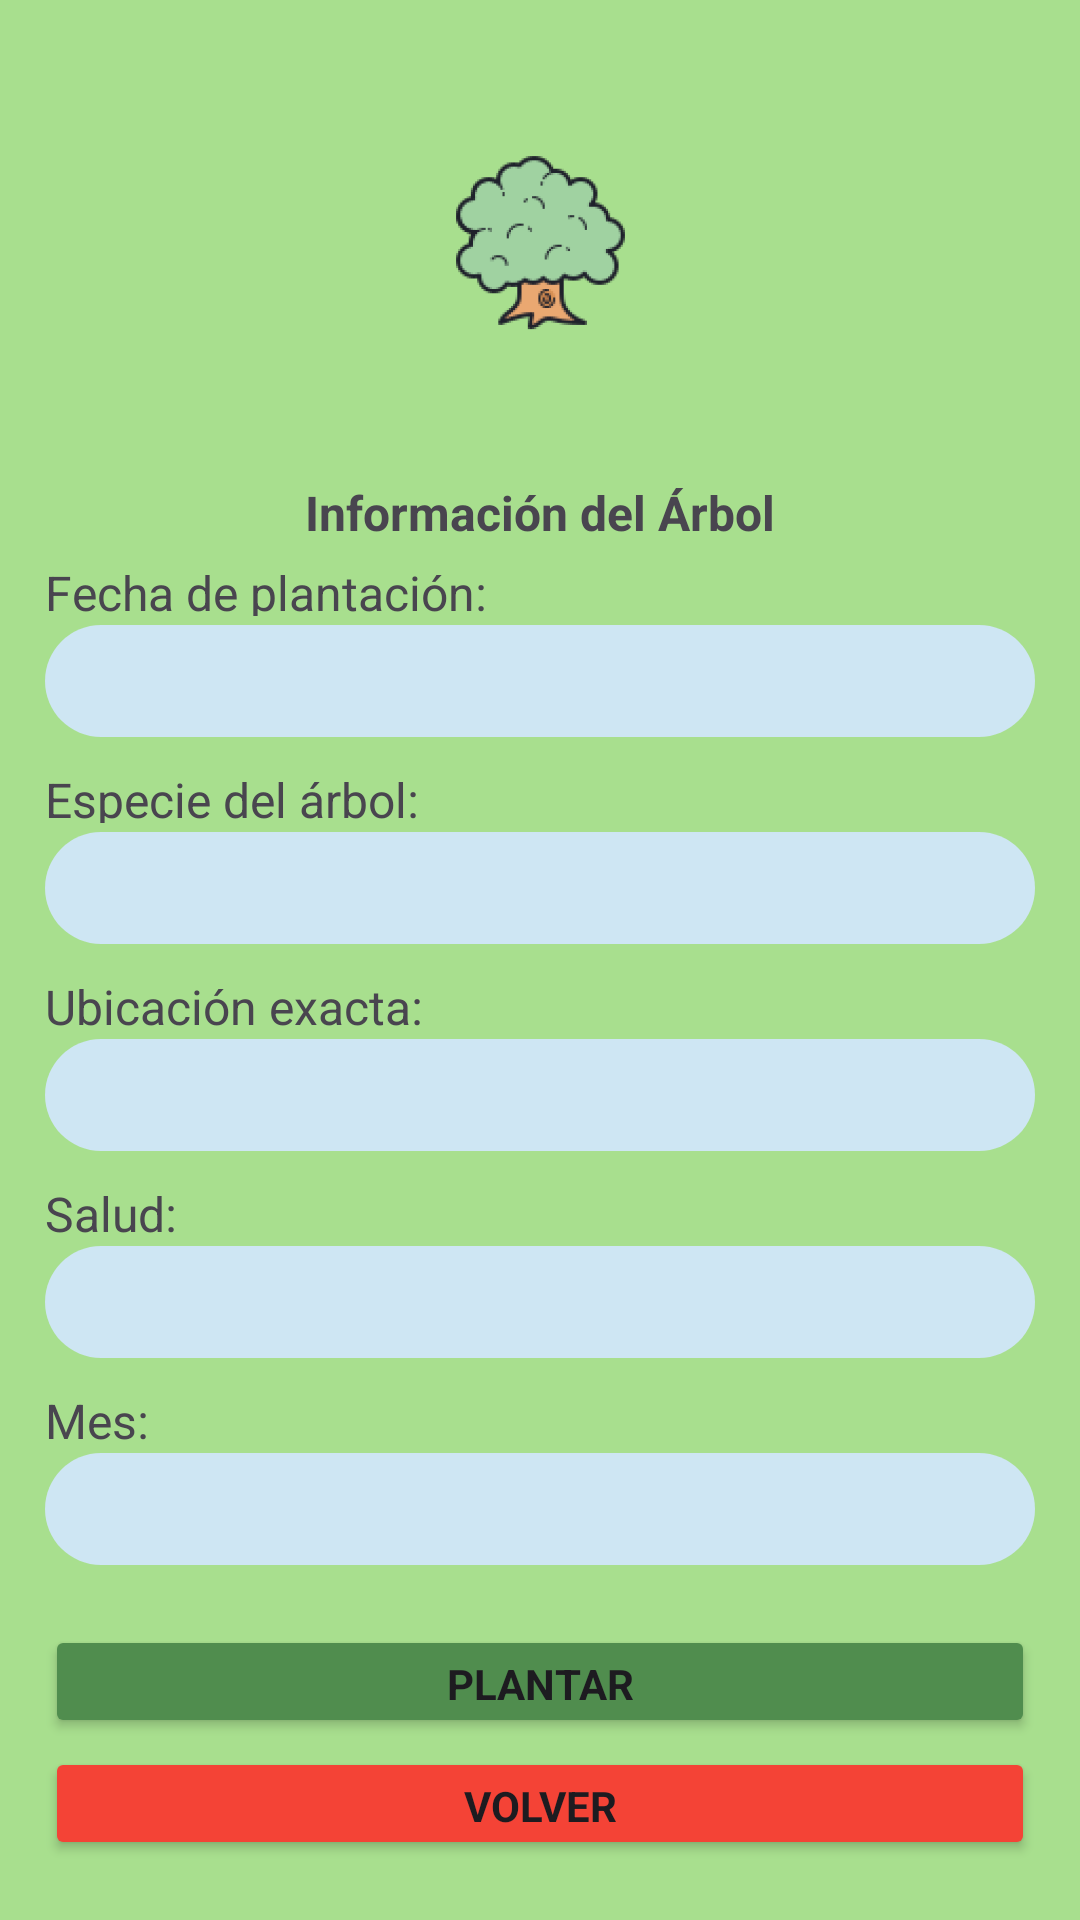

Point at icon controls on the screen. Image size 1080px×1920px, points as point (x, y).
tree: point (540, 242)
